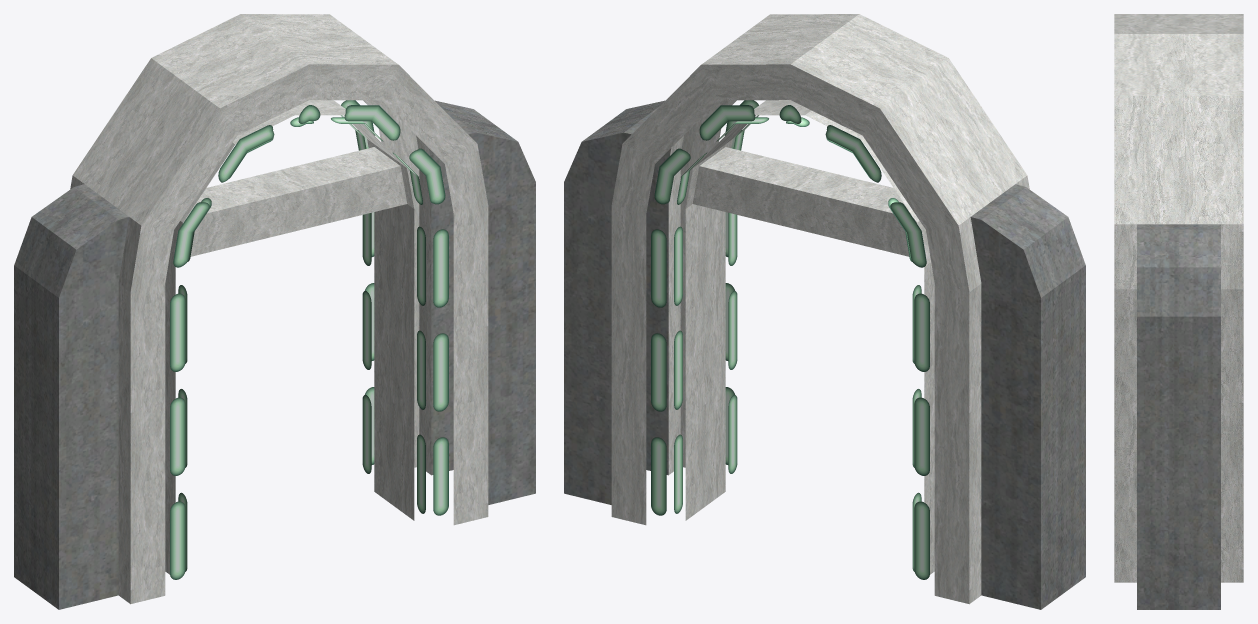
File: thm_corl_imprv_gate_sm_s01_l1.fbx
3 renders of one model, left to right at view 1: azimuth 30°, elevation 25°; view 2: azimuth 150°, elevation 25°; view 3: azimuth 270°, elevation 25°, orthographic. The views are drawn at different scales.
Parts seen in each view (by area): view 1: mesh_node; view 2: mesh_node; view 3: mesh_node.
Boxes of the visible parts, bbox=[...] form: mesh_node: bbox=[14, 14, 535, 609]; mesh_node: bbox=[564, 14, 1085, 609]; mesh_node: bbox=[1114, 14, 1243, 609].
Size of the model in its own units: 8 by 7.95 by 2.
